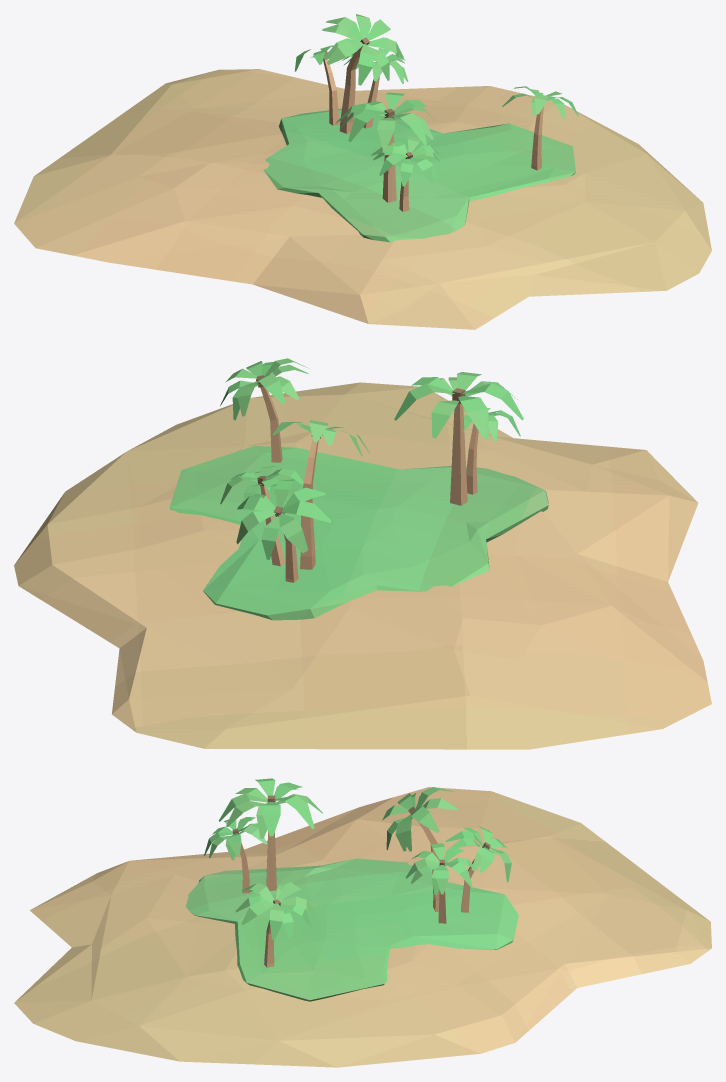
Rendered from e7a177f0-aad5-47c4-8e9e-d1111eaa6d6f.glb.
The picture shows the model from 3 angles, top to bottom: view 1: azimuth 30°, elevation 25°; view 2: azimuth 150°, elevation 25°; view 3: azimuth 270°, elevation 25°; orthographic projection. The views are drawn at different scales.
Visible parts, largest first — view 1: Cube.003_Cube.002; view 2: Cube.003_Cube.002; view 3: Cube.003_Cube.002.
Boxes of the visible parts, box(x1,y1,x2,y2) form: Cube.003_Cube.002: box(14, 14, 711, 329); Cube.003_Cube.002: box(14, 358, 711, 749); Cube.003_Cube.002: box(14, 778, 711, 1067).
Bounding box in the file's own units: 47.54 × 12.34 × 49.93.
1 material, 1 textured.
